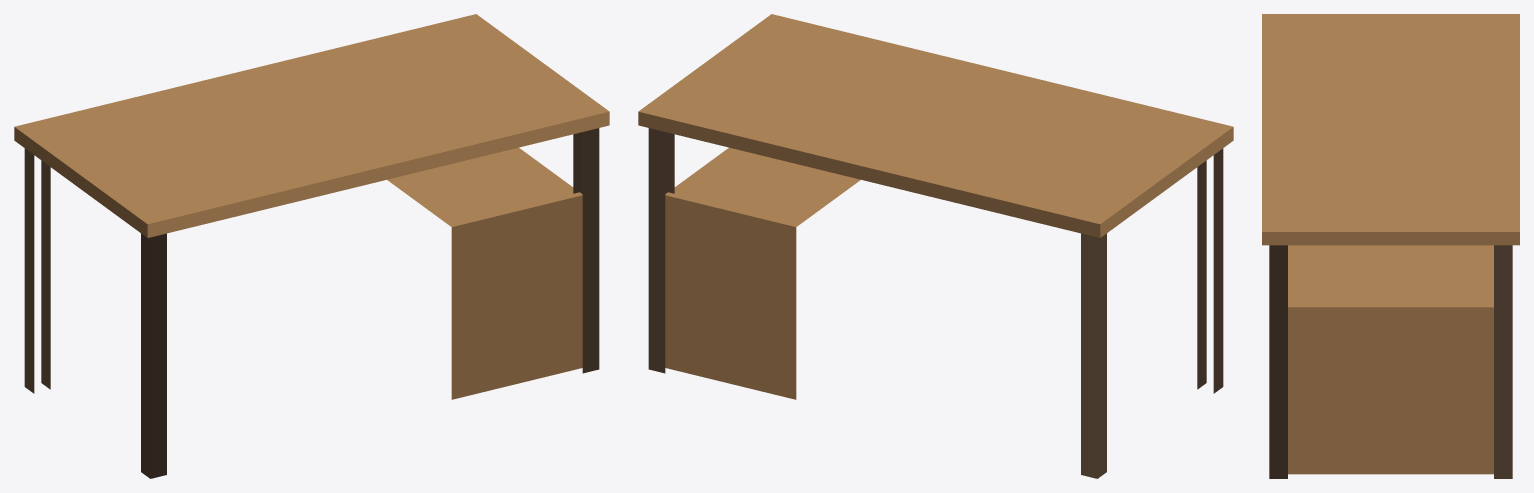
The model's file is desk.glb.
The picture shows the model from 3 angles, left to right: view 1: azimuth 30°, elevation 25°; view 2: azimuth 150°, elevation 25°; view 3: azimuth 270°, elevation 25°; orthographic projection. The views are drawn at different scales.
Size of the model in its own units: 1.4 by 0.75 by 0.7.
